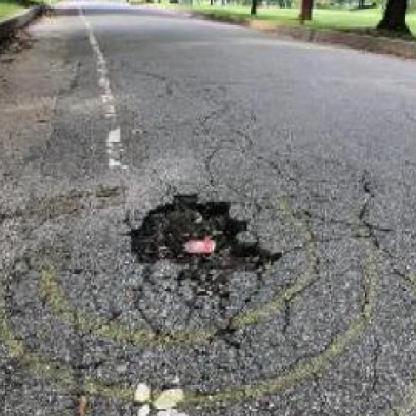pothole: (122, 190, 280, 284)
